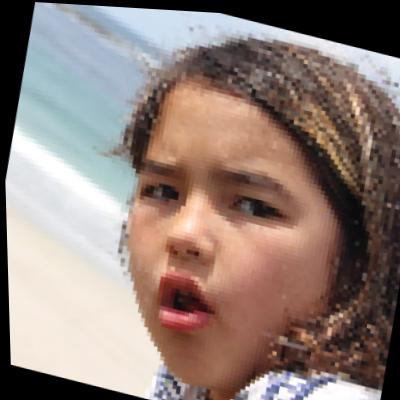surprise: (93, 69, 372, 400)
